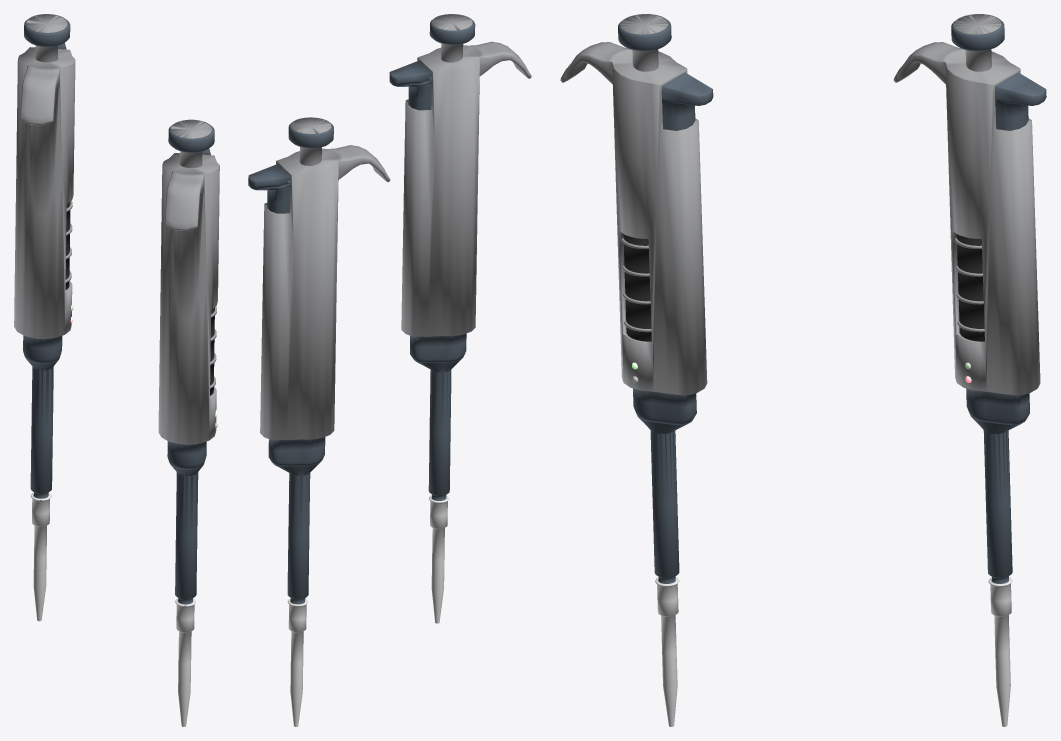
The model's file is laboratory_pippete-transformed.glb.
3 views of the same model, side by side, from view 1: azimuth 30°, elevation 25°; view 2: azimuth 150°, elevation 25°; view 3: azimuth 270°, elevation 25° (orthographic). The views are drawn at different scales.
Parts seen in each view (by area): view 1: pippet_Material.001_0; view 2: pippet_Material.001_0; view 3: pippet_Material.001_0.
Part boxes in pixels (box(x1,y1,x2,y2)): pippet_Material.001_0: box(14, 14, 219, 726); pippet_Material.001_0: box(248, 14, 531, 726); pippet_Material.001_0: box(560, 14, 1046, 726).
Bounding box in the file's own units: 1.12 × 6.87 × 4.32.
4 materials, 4 textured.
